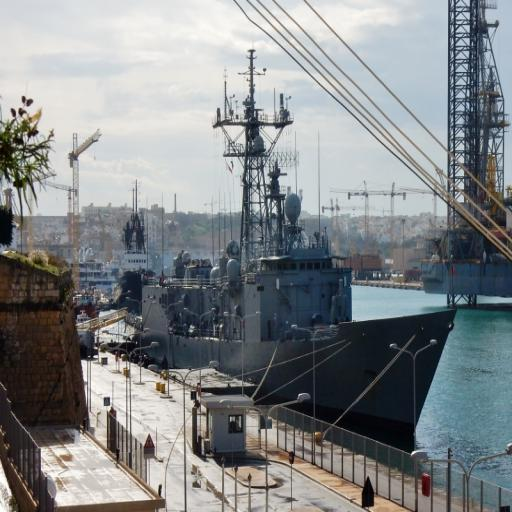Fragata: (130, 29, 461, 453)
